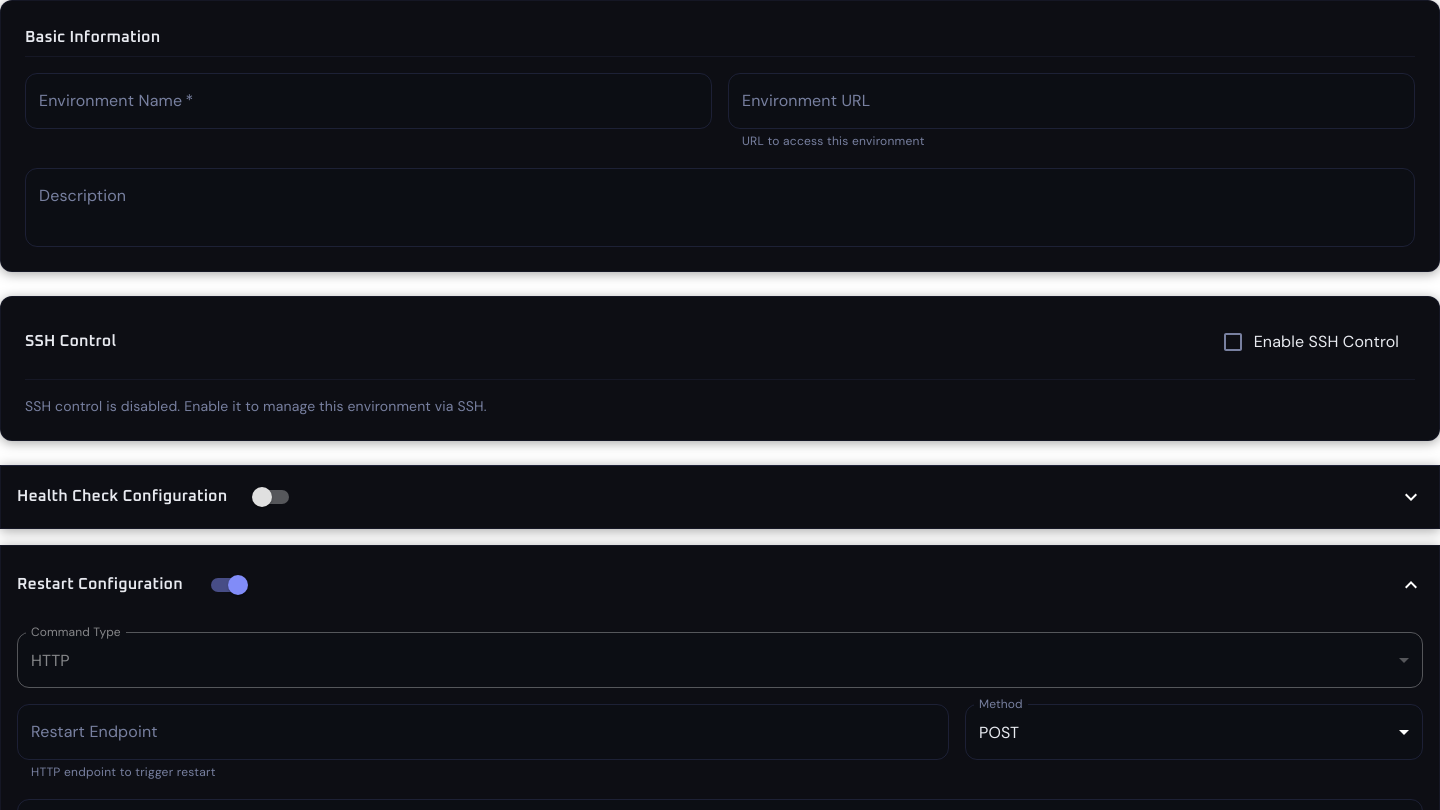
Test case: EnvironmentForm › should show SSH upgrade command when SSH enabled and upgrade enabled
Note: Enable SSH
Click the 1st checkbox labelled "Enable SSH Control" at (1310, 342), box [1221, 330, 1399, 354]
(page scrolled)
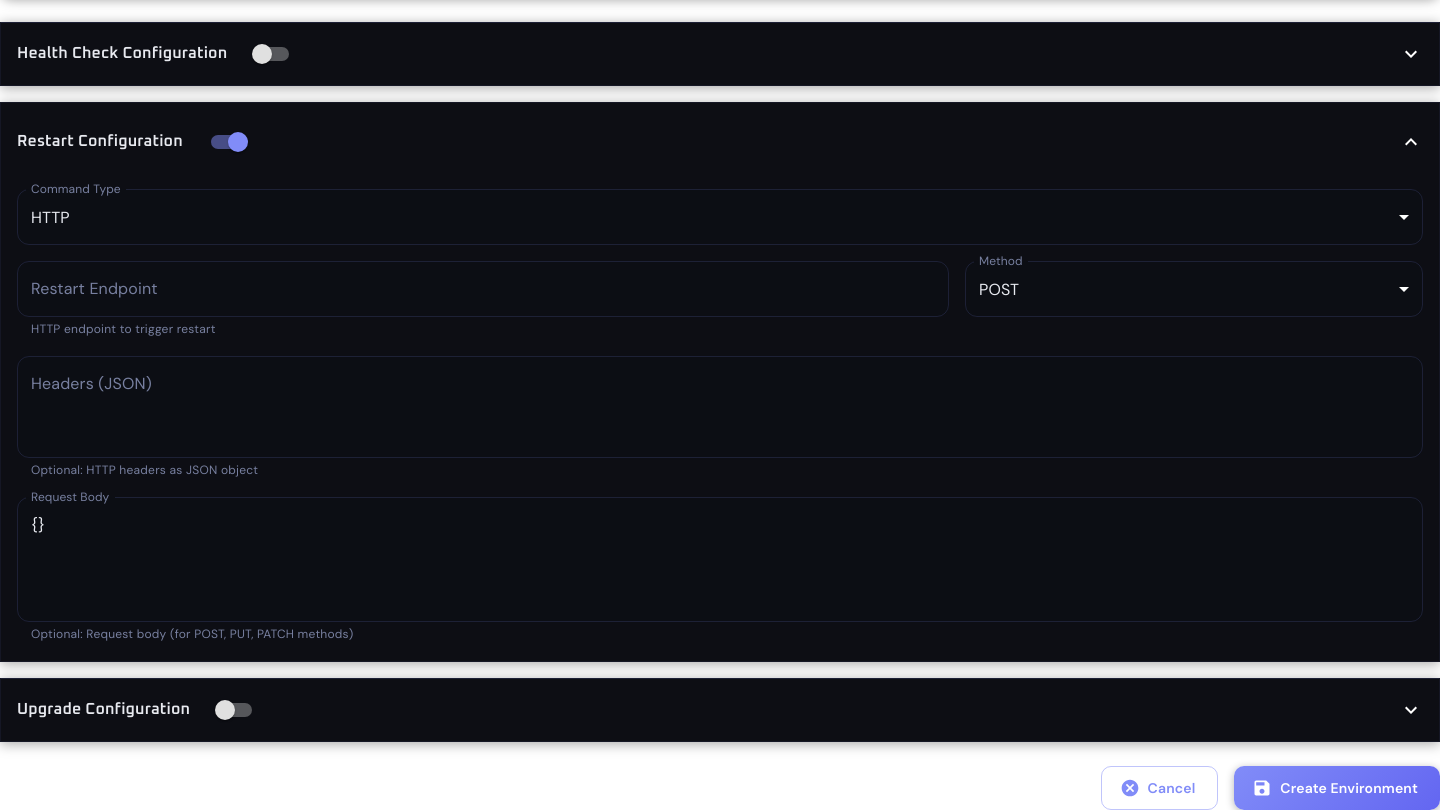
Note: With SSH enabled: health check (0), restart (1), upgrade (2)
Click the 3rd checkbox at (225, 710), box [215, 700, 235, 720]
(page scrolled)
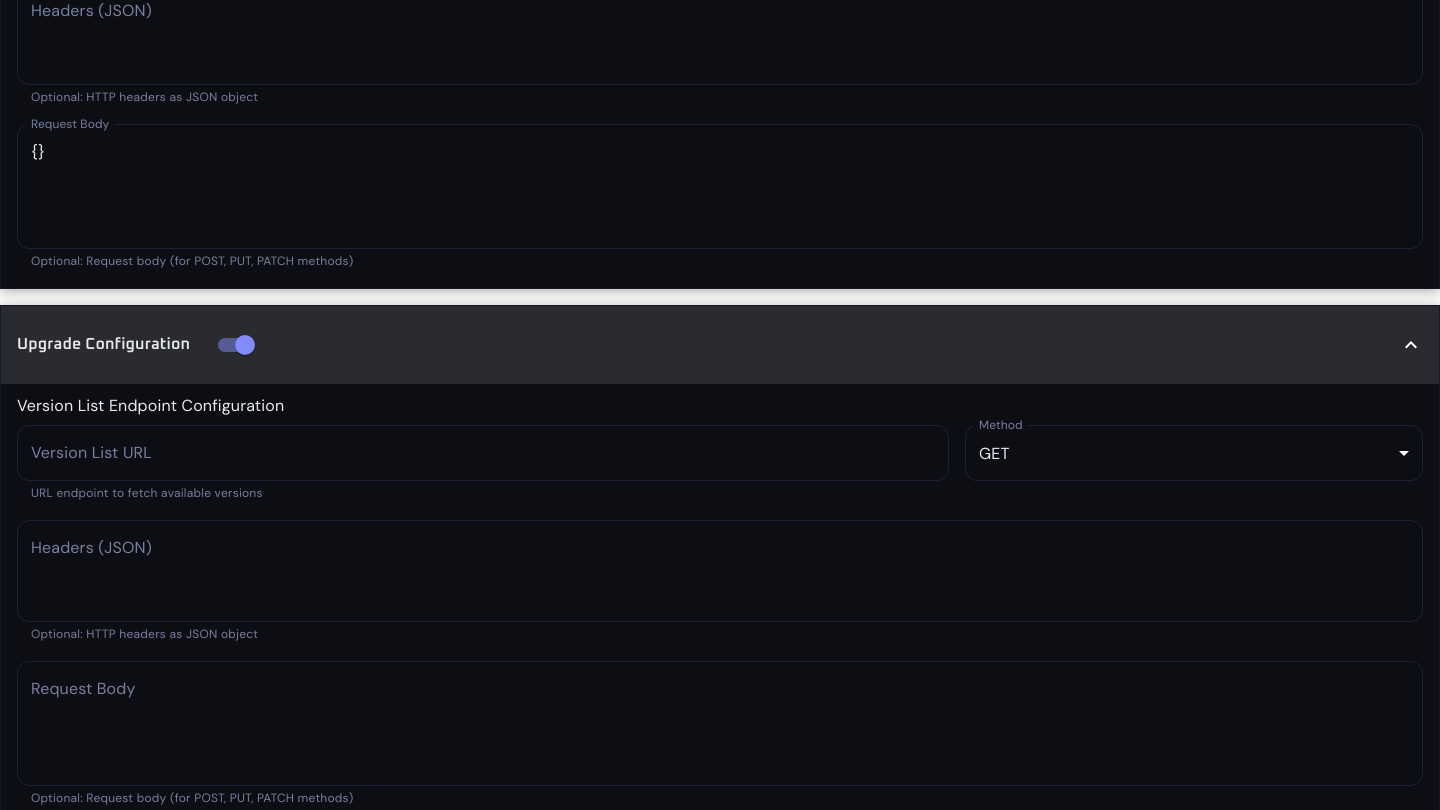
Result: the heading "Version List Endpoint Configuration" is shown at [17, 395, 284, 416]
